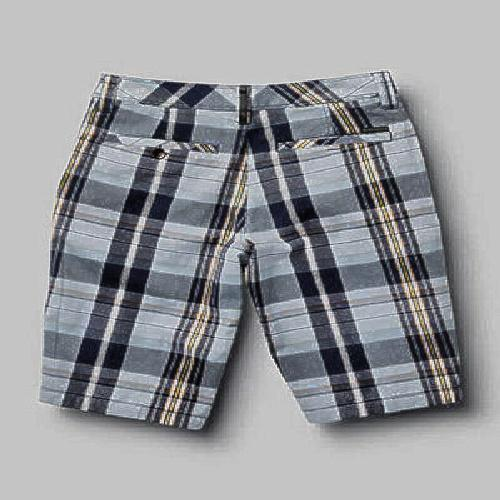toaster: (47, 67, 461, 430)
